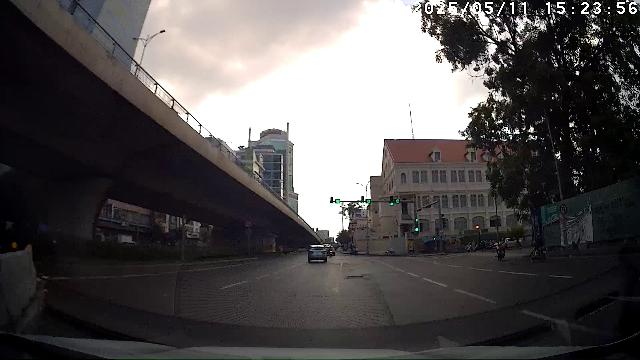124a-cam-quay-dau-xe: (559, 204, 568, 215)
